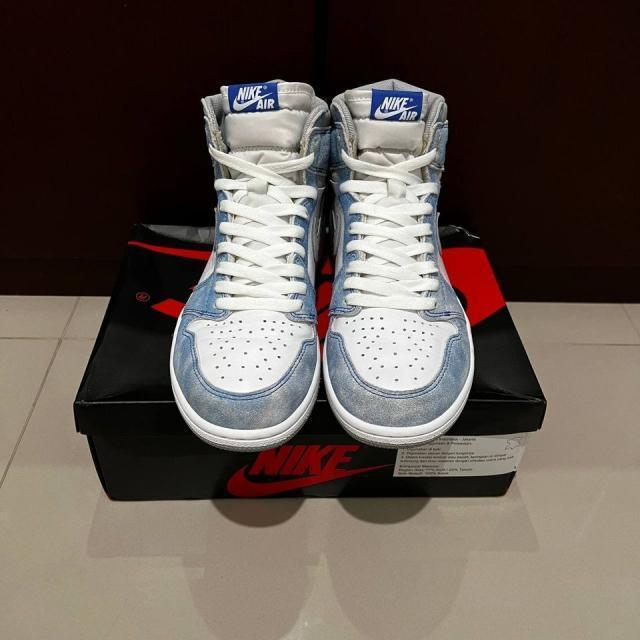nike original jordan 1: (168, 76, 334, 455), (321, 78, 478, 449)
